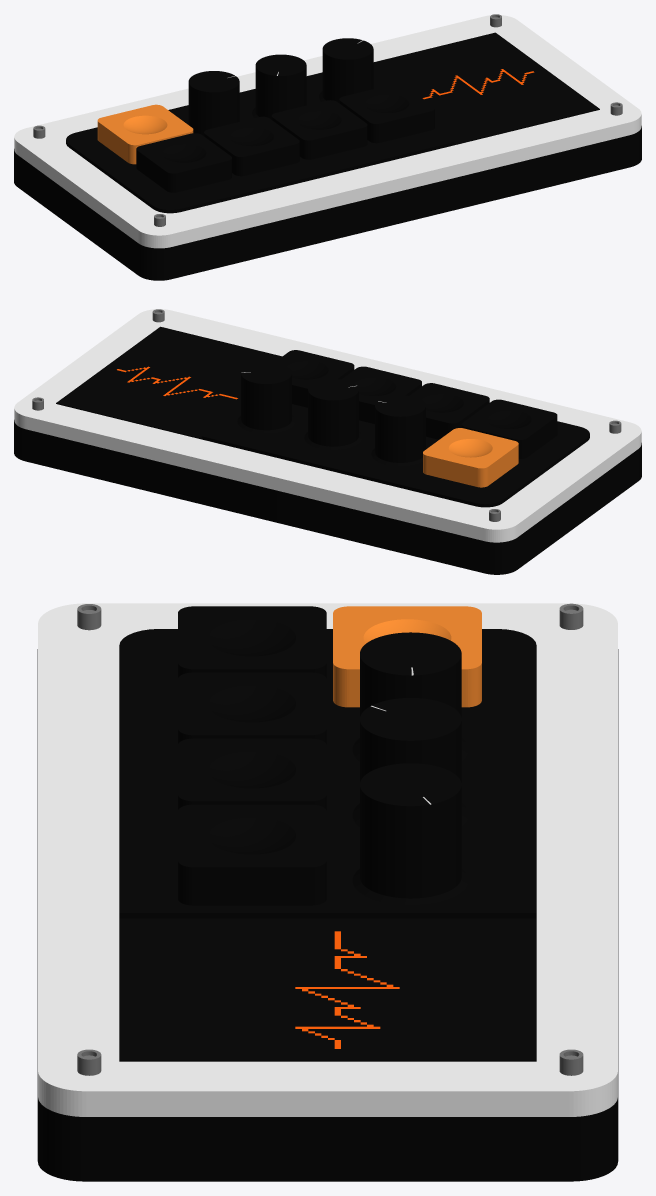
Rendered from keyboard_website.glb.
3 renders of one model, top to bottom at view 1: azimuth 30°, elevation 25°; view 2: azimuth 150°, elevation 25°; view 3: azimuth 270°, elevation 25°, orthographic. The views are drawn at different scales.
Parts seen in each view (by area): view 1: Transparent_Pannel, Black_Pannel, Keycap_B, Screen, KeyPannel, Keycap_O, Dial2, Dial3, Dial1, Pin; view 2: Transparent_Pannel, Black_Pannel, Screen, KeyPannel, Keycap_B, Keycap_O, Dial3, Dial2, Dial1, Pin; view 3: Transparent_Pannel, Screen, KeyPannel, Keycap_B, Black_Pannel, Dial3, Keycap_O, Dial1, Dial2, Pin.
Part boxes in pixels (x1,y1,x2,y2): Transparent_Pannel: (14,15,641,248); Black_Pannel: (14,126,641,280); Keycap_B: (136,83,434,192); Screen: (373,32,599,145); KeyPannel: (66,72,454,213); Keycap_O: (97,104,193,164); Dial2: (252,54,306,119); Dial3: (319,38,373,102); Dial1: (188,71,239,135); Pin: (33,14,622,226); Transparent_Pannel: (14,309,641,542); Black_Pannel: (14,420,641,574); Screen: (56,326,281,439); KeyPannel: (201,404,589,507); Keycap_B: (274,350,557,458); Keycap_O: (423,428,518,487); Dial3: (237,362,295,433); Dial2: (304,379,362,449); Dial1: (371,395,426,466); Pin: (32,309,621,521); Transparent_Pannel: (38,603,617,1116); Screen: (119,918,536,1061); KeyPannel: (119,629,536,918); Keycap_B: (178,606,326,905); Black_Pannel: (37,649,618,1181); Dial3: (352,763,468,904); Keycap_O: (333,606,481,707); Dial1: (352,632,468,761); Dial2: (352,698,468,826); Pin: (77,603,583,1075).
Bounding box in the file's own units: 13.02 × 2.39 × 6.54.
